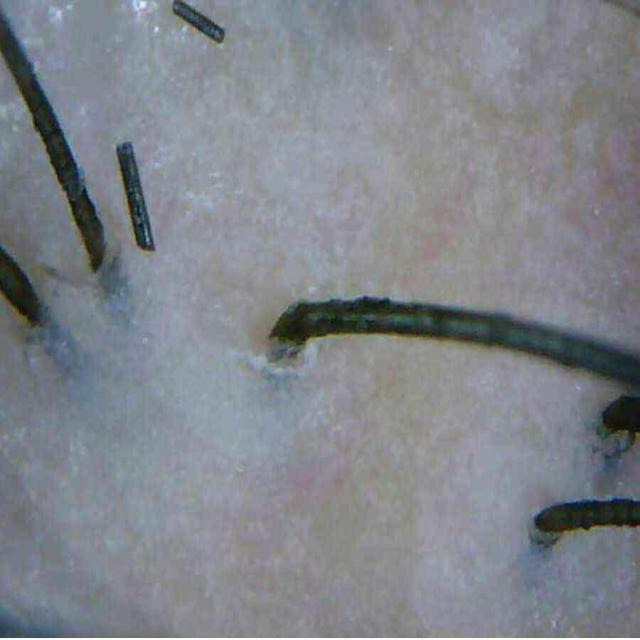o: (122, 0, 159, 20), (46, 3, 72, 23)
